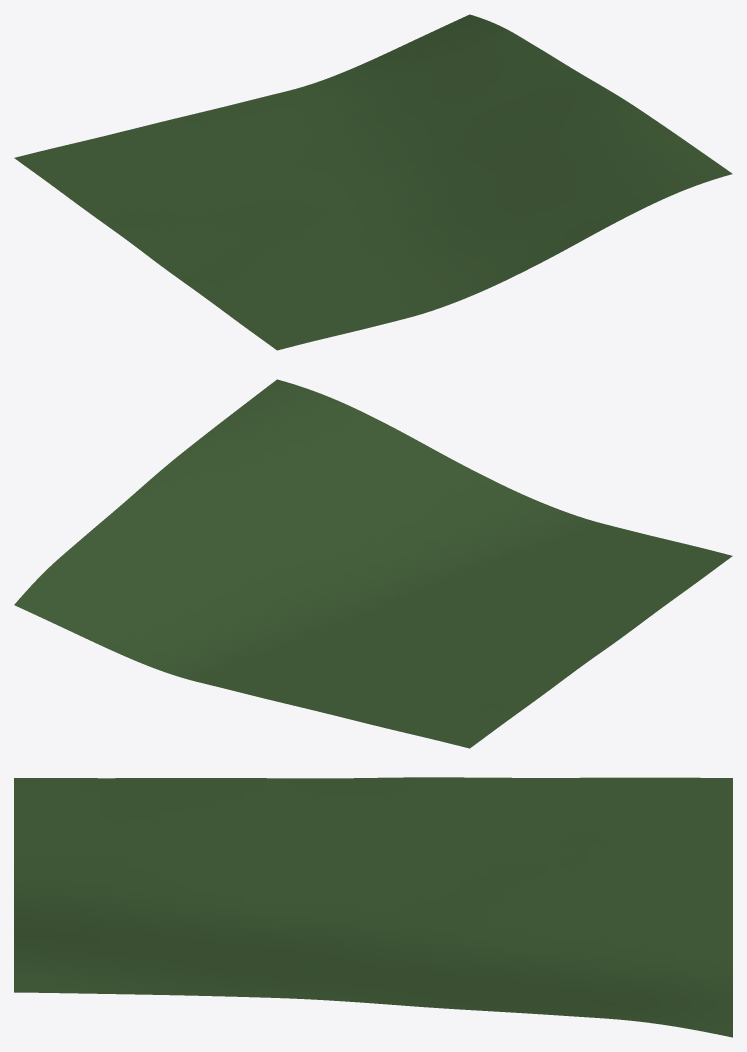
The model's file is chunk0-8_LOD0.obj.
3 views of the same model, one above another, from view 1: azimuth 30°, elevation 25°; view 2: azimuth 150°, elevation 25°; view 3: azimuth 270°, elevation 25° (orthographic). The views are drawn at different scales.
Visible parts, largest first — view 1: Terrain; view 2: Terrain; view 3: Terrain.
Part boxes in pixels (box(x1,y1,x2,y2)): Terrain: box(14, 14, 732, 350); Terrain: box(14, 379, 732, 748); Terrain: box(14, 777, 732, 1037).
Size of the model in its own units: 4000 by 552 by 4000.
